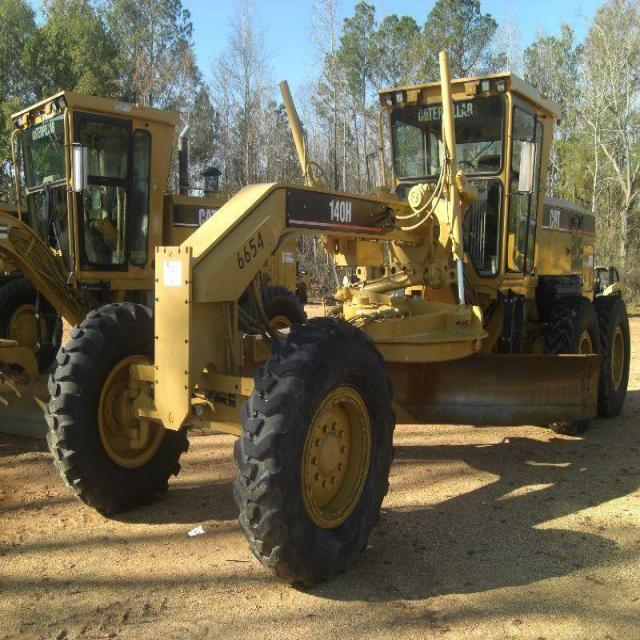Grader: (37, 61, 636, 582)
